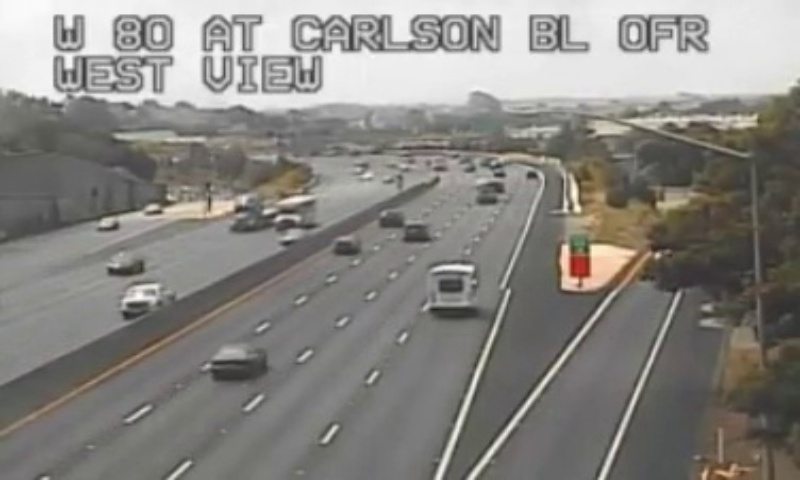bus: (427, 263, 476, 313)
car: (210, 344, 263, 377), (333, 236, 361, 256)
